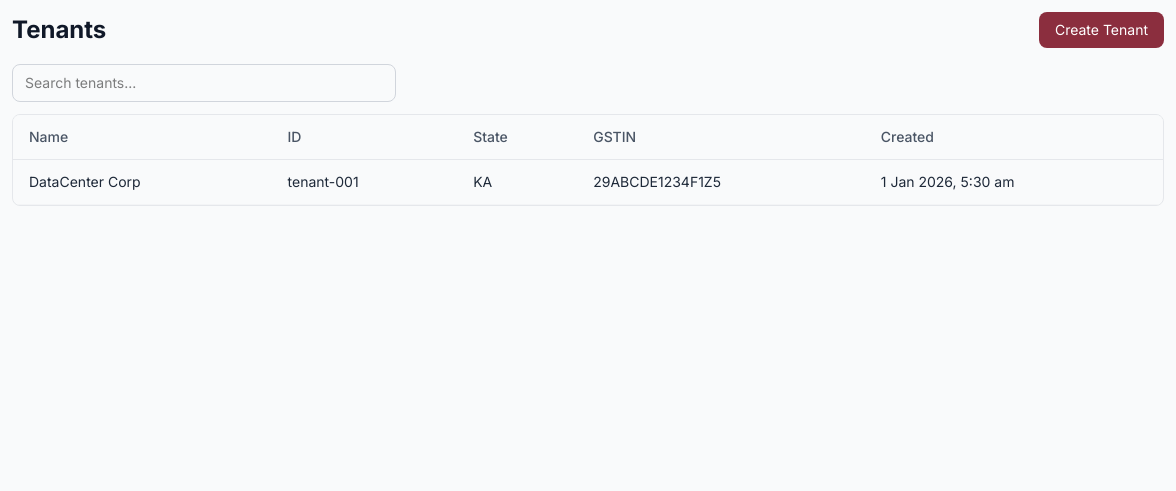
Test case: PlatformTenants page › shows create form when Create Tenant button is clicked
Click the button "Create Tenant".
click(1101, 30)  # box [1039,12,1164,48]
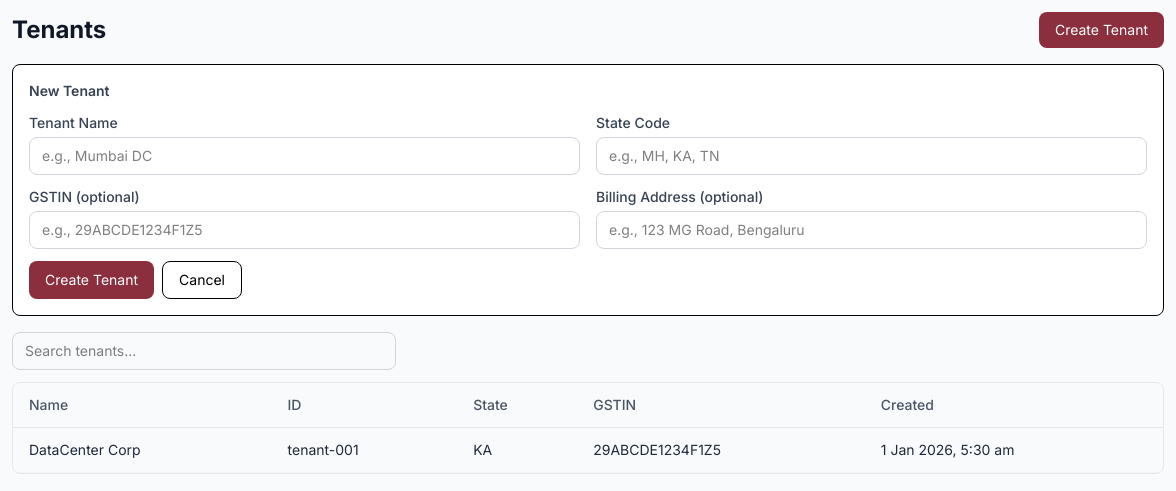
Result: the heading "New Tenant" is shown at [29,82,110,99]
Result: the field with placeholder "e.g., Mumbai DC" is shown at [29,137,580,175]
